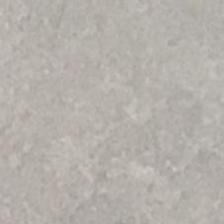Non_Crack: (17, 24, 206, 224)
